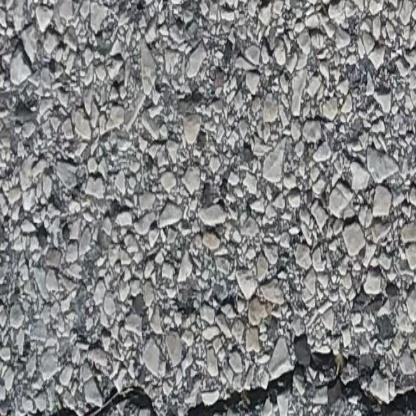Cracks: (0, 330, 416, 416)
